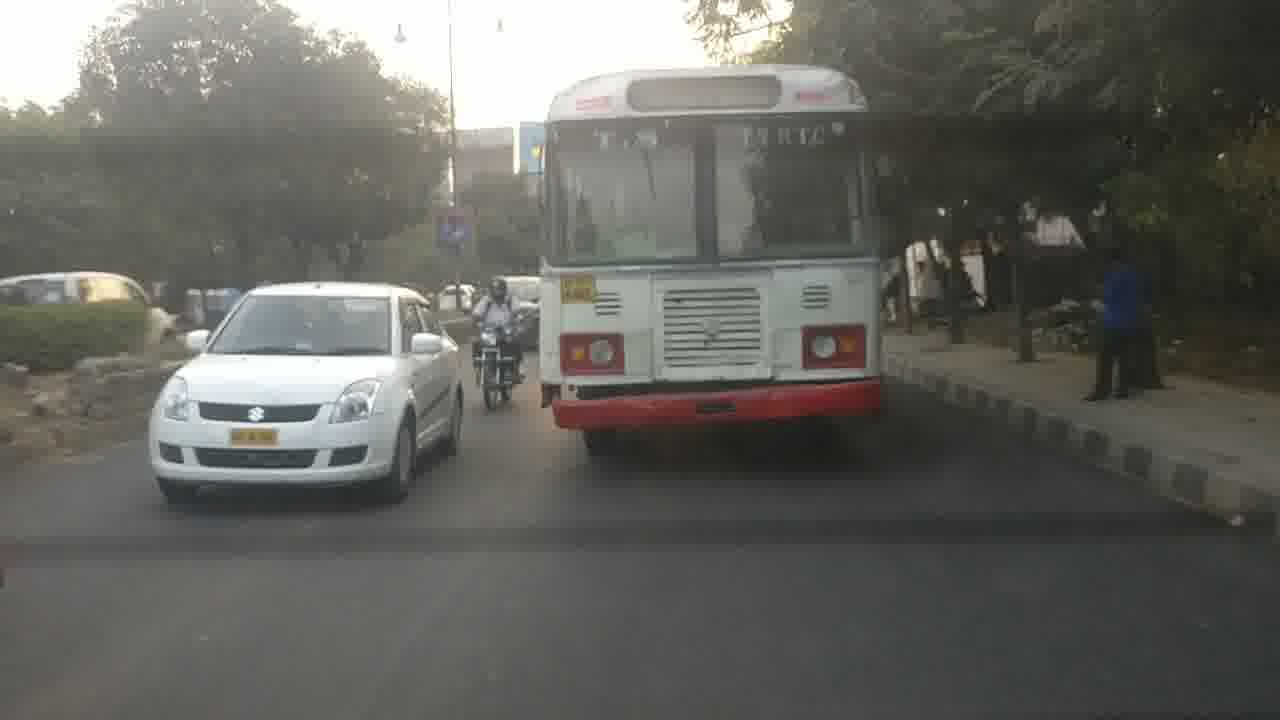swift desire: (149, 281, 462, 492)
